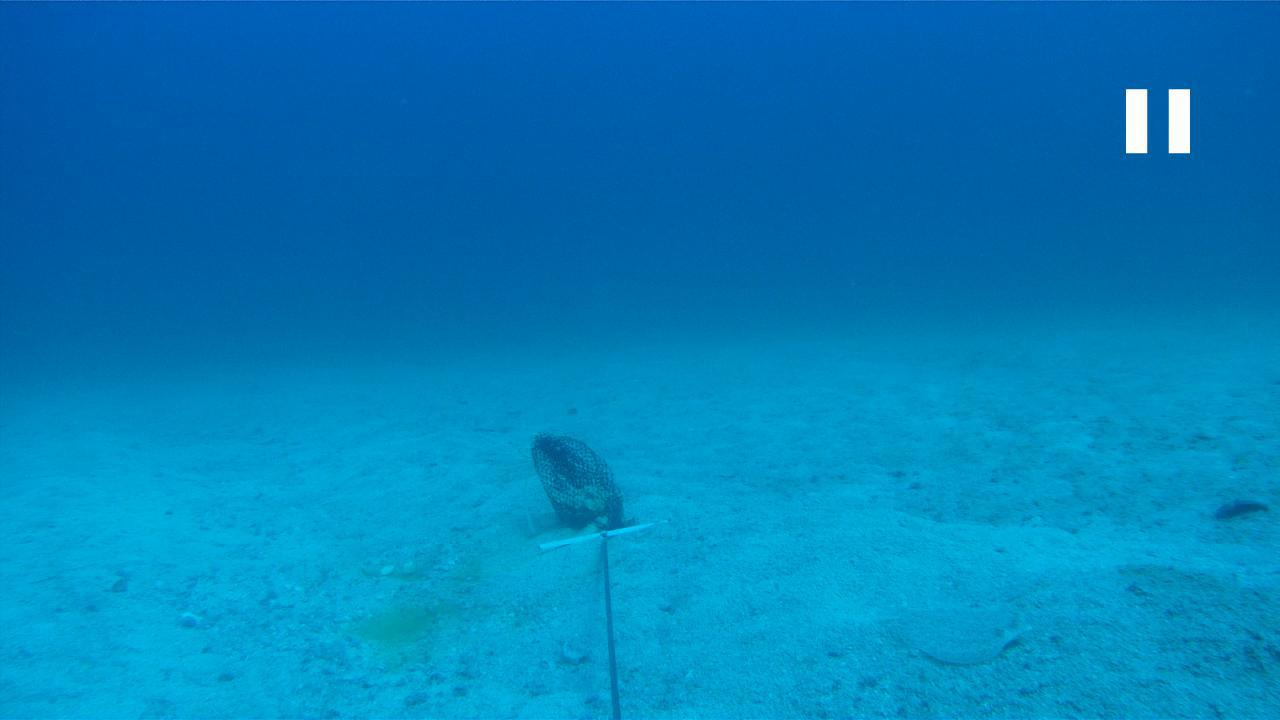bothus: (884, 602, 1028, 668)
